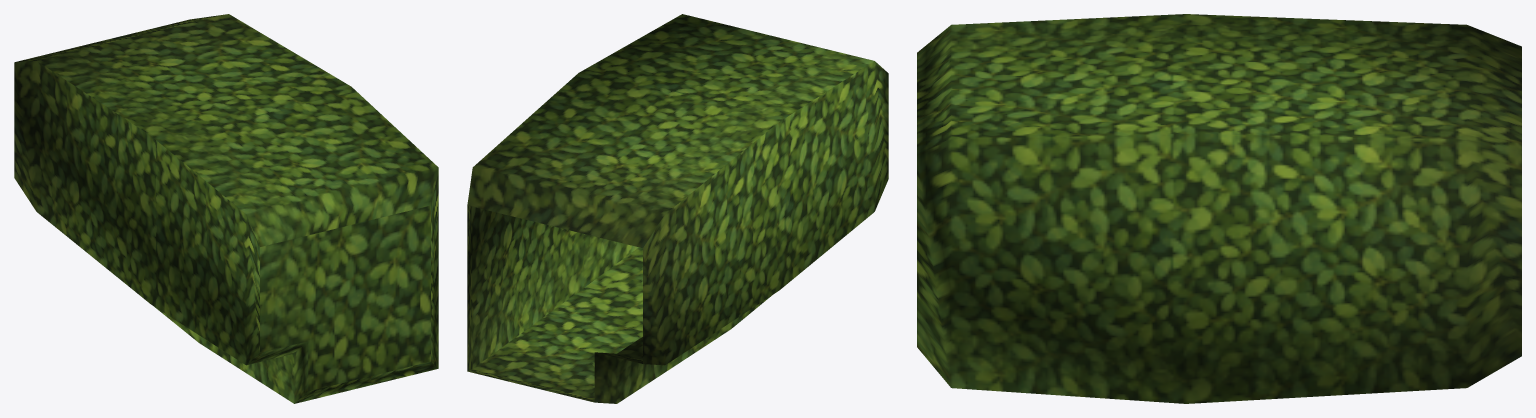
The model's file is keep-keep-hedge-tall-nw.obj.
3 renders of one model, left to right at view 1: azimuth 30°, elevation 25°; view 2: azimuth 150°, elevation 25°; view 3: azimuth 270°, elevation 25°, orthographic. The views are drawn at different scales.
Visible parts, largest first — view 1: hedge-tall-nw; view 2: hedge-tall-nw; view 3: hedge-tall-nw.
Boxes of the visible parts, <box> form: hedge-tall-nw: <box>14,14,438,403</box>; hedge-tall-nw: <box>467,14,888,403</box>; hedge-tall-nw: <box>917,14,1521,403</box>.
Bounding box in the file's own units: 0.835 × 0.87 × 1.77.
Materials: 1 (1 with a texture image).
